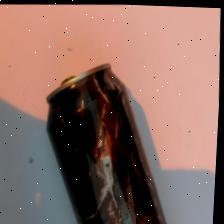metal: (43, 41, 173, 224)
